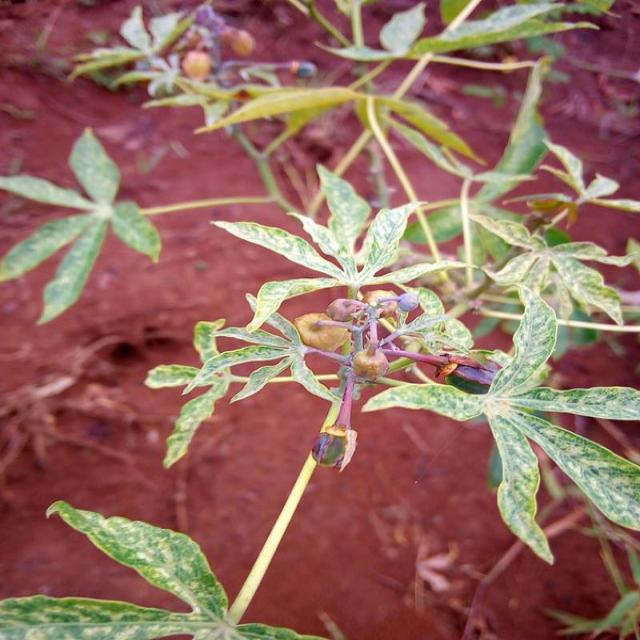cassava leaf: (360, 285, 639, 565), (0, 125, 162, 325), (44, 497, 229, 623)
